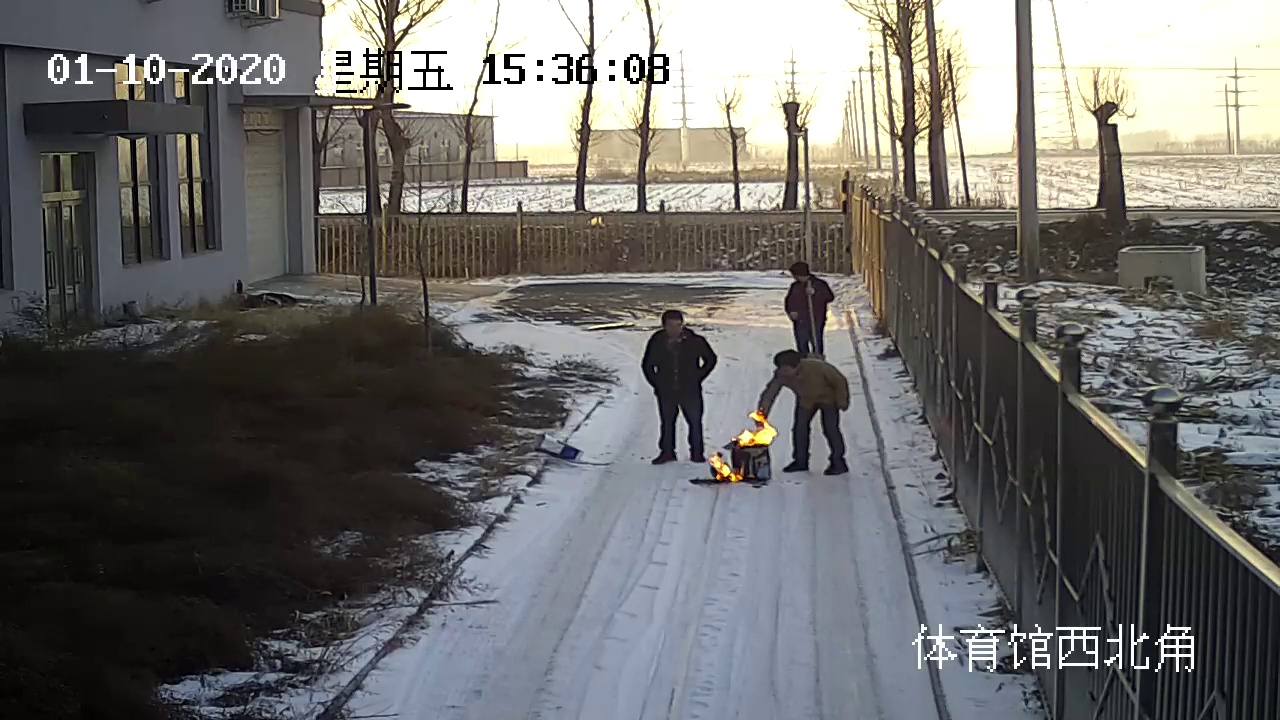fire: (730, 412, 769, 447), (709, 451, 748, 483)
